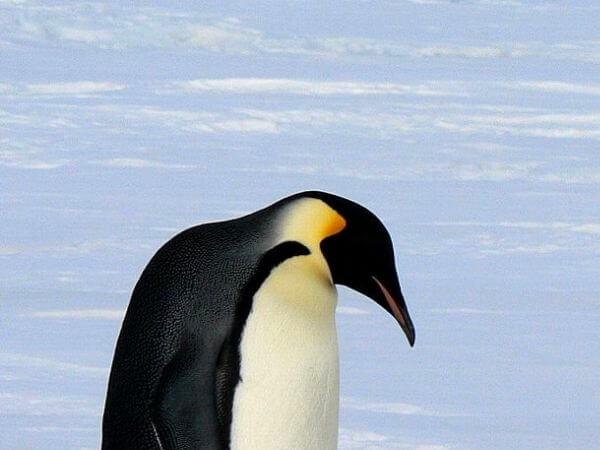Emperor Penguin: (12, 174, 415, 450)
